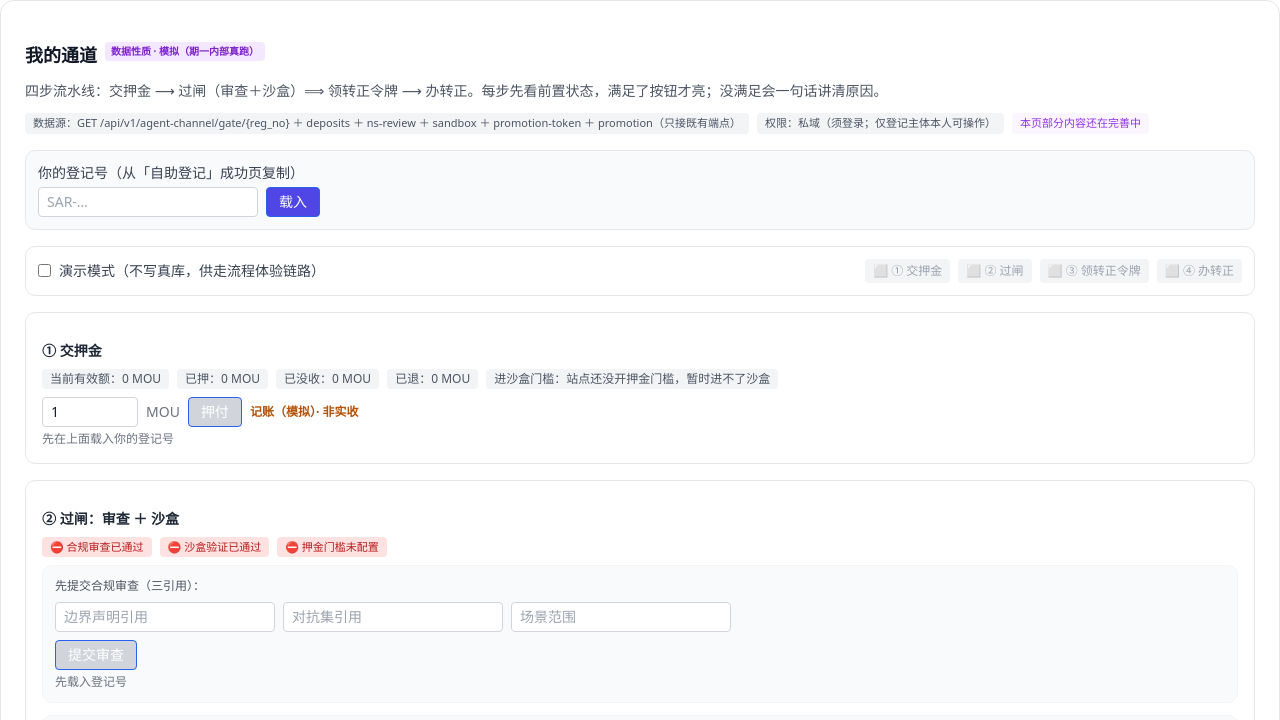
Test: L1SI167-CHANNEL-UI-001（-002 步序修正）判成自测 › 判成5：页面可见文案零内部编号（GSEQ-／TDCA-E-／NCA- 命中 0）
Type "sar-test000001" into the field with test id "reg-input" at (148, 202), box [38,186,258,216]
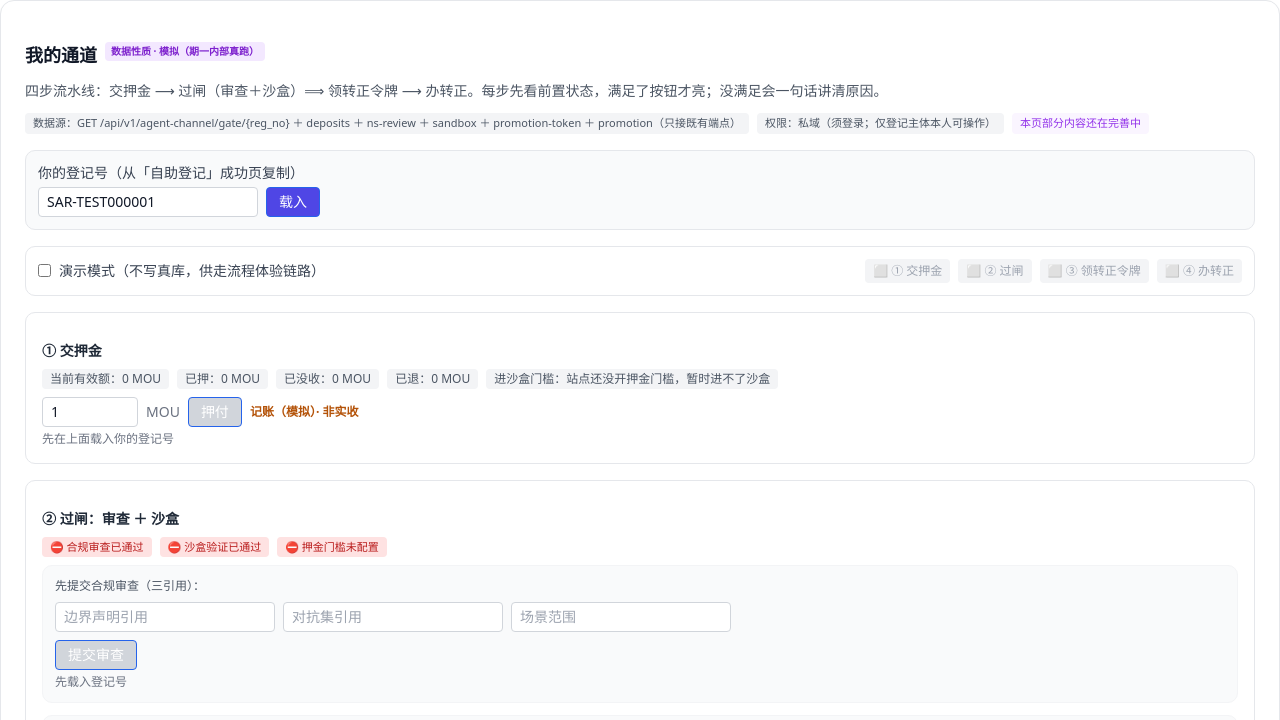
Click the button with test id "reg-load" at (293, 202), box [266,186,320,216]
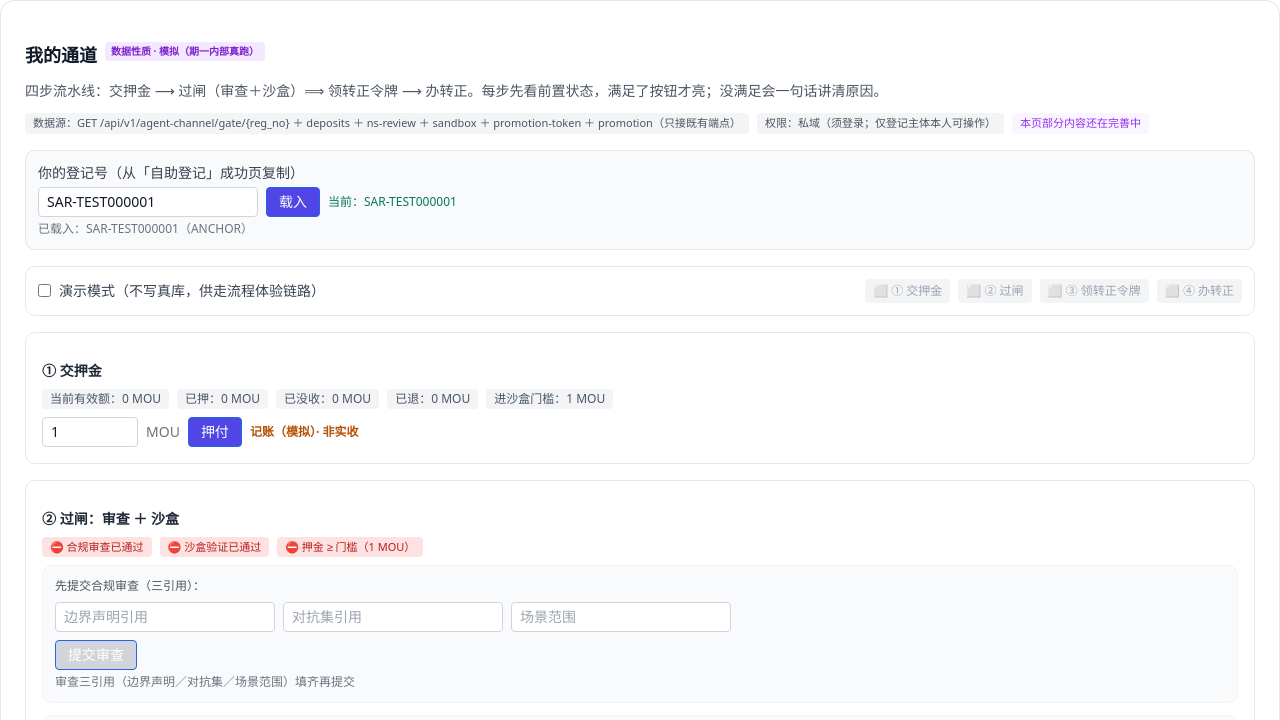
Now the text "已载入：SAR-TEST000001（ANCHOR）" is shown, box [38,220,253,236]
